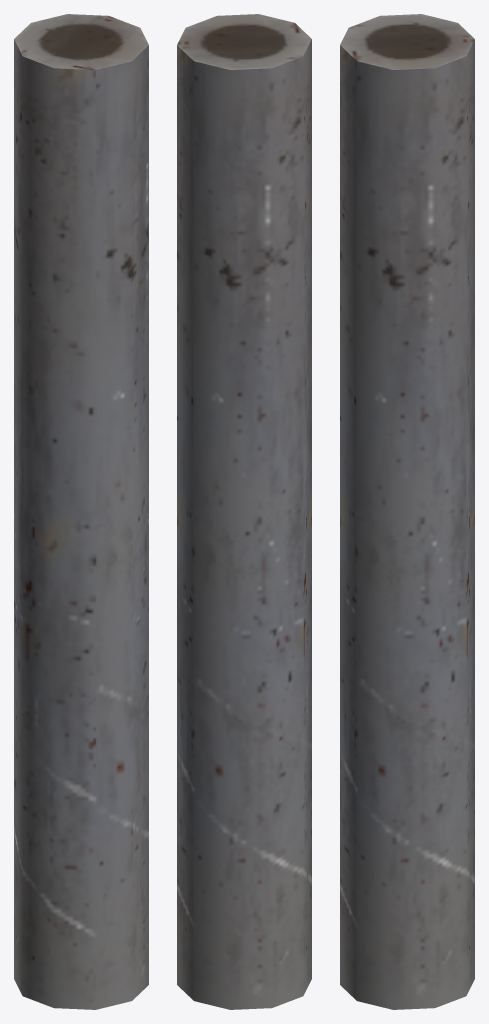
Rendered from SteelPipe_10a_snaps011.fbx.
3 views of the same model, side by side, from view 1: azimuth 30°, elevation 25°; view 2: azimuth 150°, elevation 25°; view 3: azimuth 330°, elevation 25° (orthographic).
Parts seen in each view (by area): view 1: SteelPipe_10a_snaps011_LOD0; view 2: SteelPipe_10a_snaps011_LOD0; view 3: SteelPipe_10a_snaps011_LOD0.
Part boxes in pixels (x1=…): SteelPipe_10a_snaps011_LOD0: x1=14, y1=14, x2=148, y2=1009; SteelPipe_10a_snaps011_LOD0: x1=177, y1=14, x2=311, y2=1009; SteelPipe_10a_snaps011_LOD0: x1=340, y1=14, x2=474, y2=1009.
Size of what is drawn, in the model's own units: 6.54 by 50 by 6.22.
